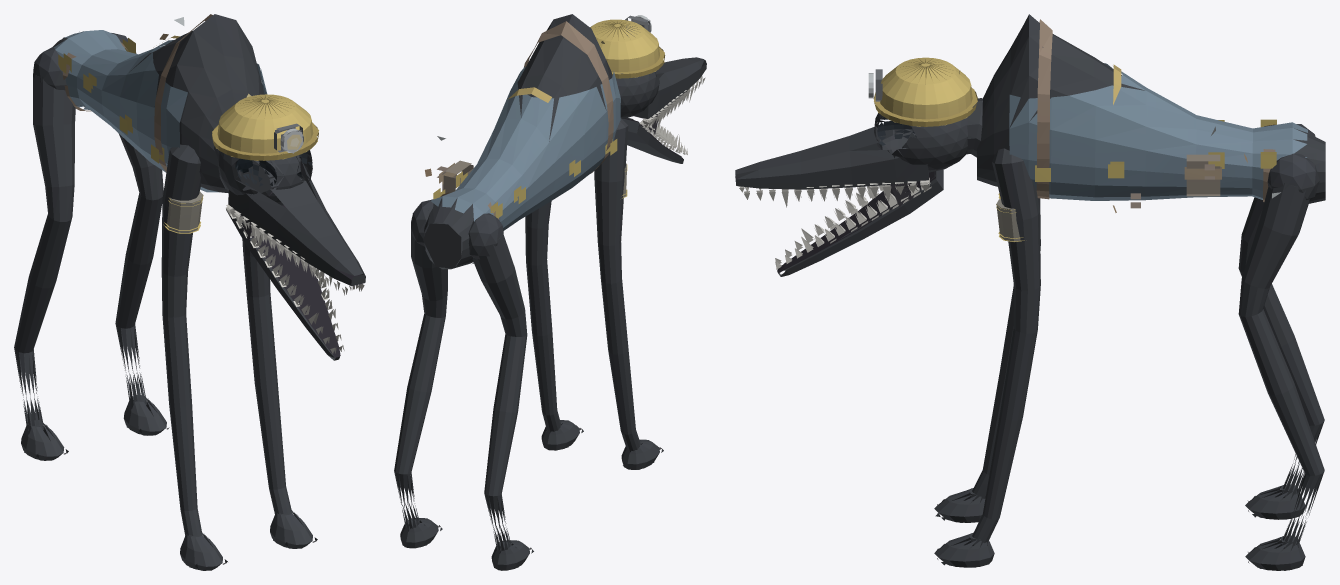
The model's file is LongmawMiner.glb.
3 views of the same model, side by side, from view 1: azimuth 30°, elevation 25°; view 2: azimuth 150°, elevation 25°; view 3: azimuth 270°, elevation 25° (orthographic). The views are drawn at different scales.
Visible parts, largest first — view 1: Head, Body, ArmR, LegR, LegL, ArmL; view 2: Body, LegR, Head, ArmR, LegL, ArmL; view 3: Body, Head, LegL, ArmL, LegR, ArmR.
Part boxes in pixels (bbox=[...]): Head: bbox=[212, 93, 365, 360]; Body: bbox=[52, 14, 267, 193]; ArmR: bbox=[161, 144, 227, 570]; LegR: bbox=[14, 47, 75, 460]; LegL: bbox=[111, 33, 169, 435]; ArmL: bbox=[242, 239, 317, 548]; Body: bbox=[412, 14, 620, 269]; LegR: bbox=[468, 213, 533, 570]; Head: bbox=[590, 15, 706, 163]; ArmR: bbox=[594, 118, 663, 469]; LegL: bbox=[394, 199, 447, 548]; ArmL: bbox=[525, 201, 583, 450]; Body: bbox=[977, 14, 1325, 212]; Head: bbox=[735, 57, 982, 276]; LegL: bbox=[1238, 153, 1324, 570]; ArmL: bbox=[934, 148, 1040, 567]; LegR: bbox=[1238, 124, 1324, 519]; ArmR: bbox=[934, 193, 1040, 522].
Size of the model in its own units: 1.9 by 6.89 by 7.03.
